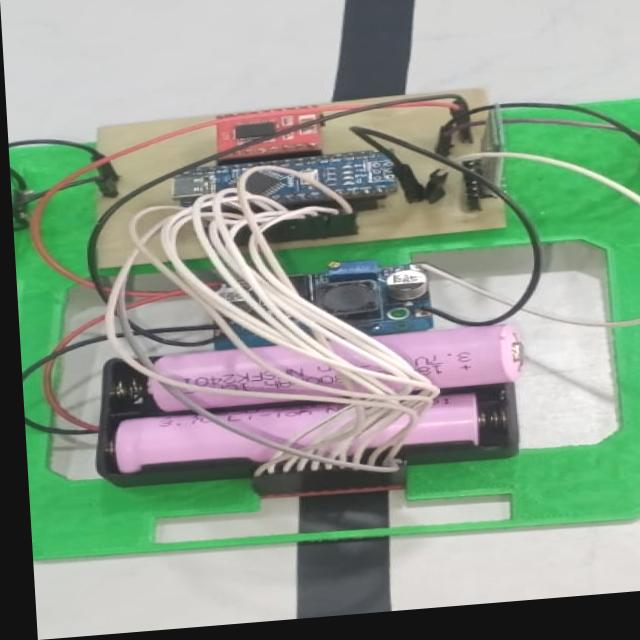vehicle: (8, 81, 640, 543)
